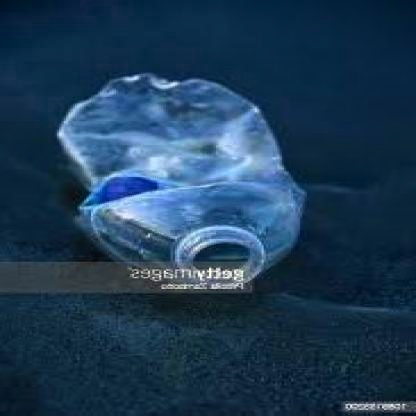pbottle: (41, 63, 314, 289)
